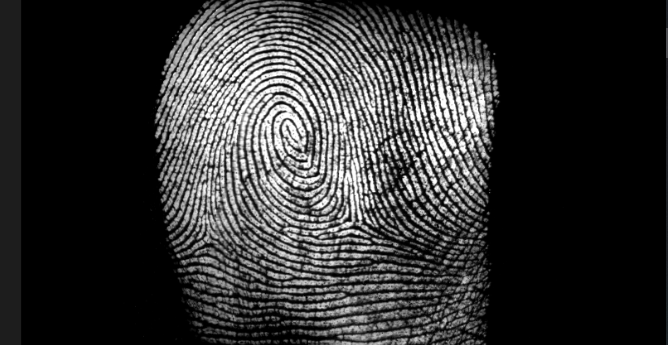deltas: (328, 190, 374, 236), (186, 209, 230, 257)
nucleo: (271, 112, 312, 155)
